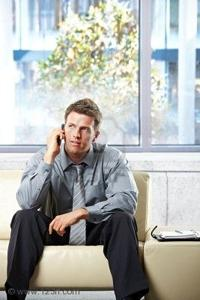person: (4, 99, 146, 299)
